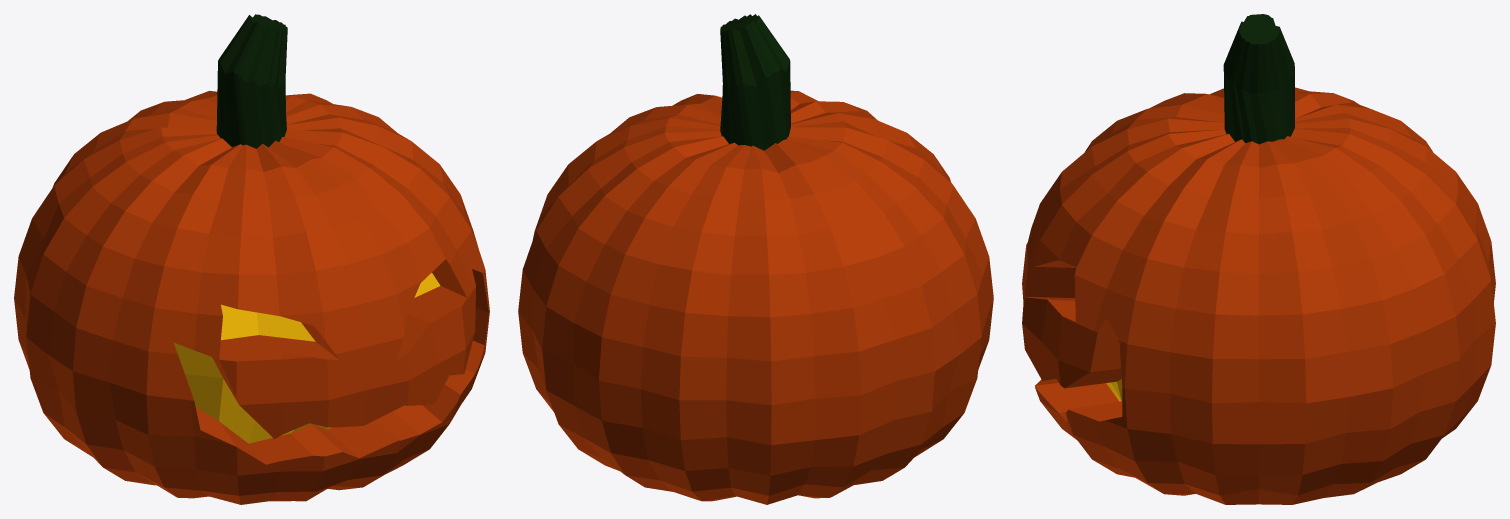
File: pumpkin_low_poly.obj
The picture shows the model from 3 angles, left to right: view 1: azimuth 30°, elevation 25°; view 2: azimuth 150°, elevation 25°; view 3: azimuth 270°, elevation 25°; orthographic projection.
Visible parts, largest first — view 1: Sphere_Material001_0, Sphere_Material003_0, Sphere_Material002_0; view 2: Sphere_Material001_0, Sphere_Material003_0; view 3: Sphere_Material001_0, Sphere_Material003_0.
Part boxes in pixels (bbox=[...]): Sphere_Material001_0: bbox=[14, 90, 489, 504]; Sphere_Material003_0: bbox=[216, 14, 287, 148]; Sphere_Material002_0: bbox=[173, 273, 440, 443]; Sphere_Material001_0: bbox=[518, 90, 993, 504]; Sphere_Material003_0: bbox=[720, 14, 790, 150]; Sphere_Material001_0: bbox=[1022, 87, 1495, 504]; Sphere_Material003_0: bbox=[1223, 14, 1294, 144].
Size of the model in its own units: 2.07 by 2.13 by 2.07.
